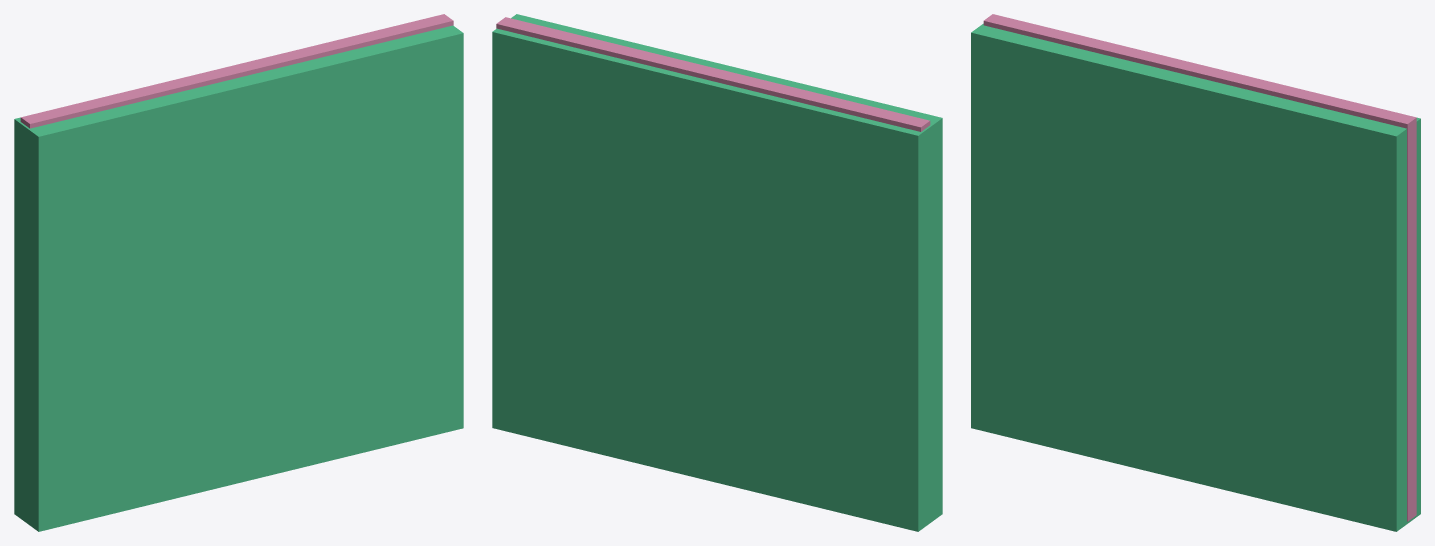
Rendered from ind_bld_tin_01_warehouse_huge_door_a.dae.
3 views of the same model, side by side, from view 1: azimuth 30°, elevation 25°; view 2: azimuth 150°, elevation 25°; view 3: azimuth 330°, elevation 25° (orthographic).
Visible parts, largest first — view 1: Colmesh-1, Untitled; view 2: Colmesh-1, Untitled; view 3: Colmesh-1, Untitled.
Boxes of the visible parts, x1,y1,x2,y2 form: Colmesh-1: (14,25,463,531); Untitled: (20,14,453,128); Colmesh-1: (492,14,942,531); Untitled: (496,17,930,131); Colmesh-1: (971,23,1420,531); Untitled: (983,14,1416,521).
Size of the model in its own units: 6.04 by 0.6 by 5.43.
